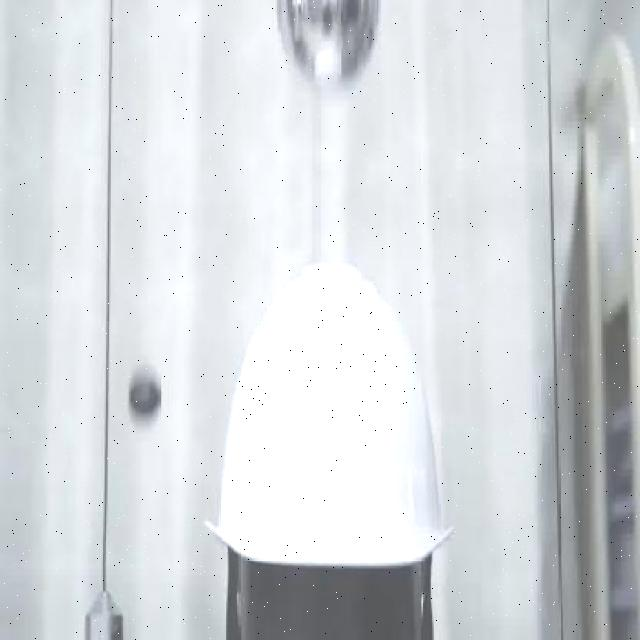Helmet: (203, 259, 457, 573)
